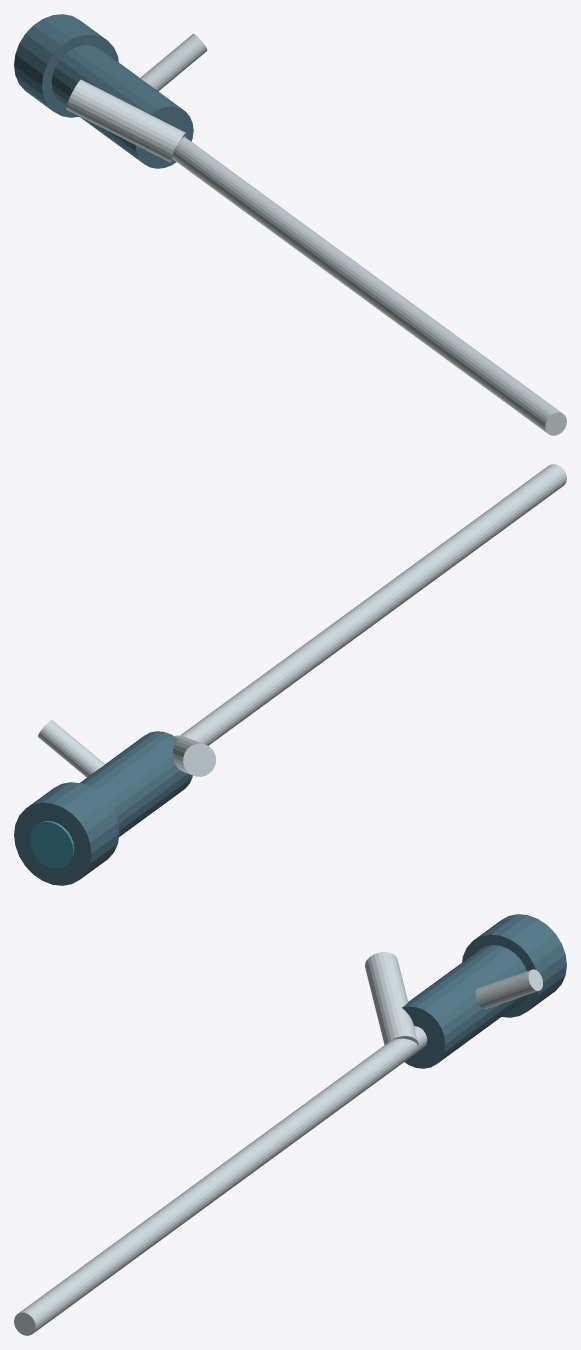
The model's file is nephroscope.glb.
3 renders of one model, top to bottom at view 1: azimuth 30°, elevation 25°; view 2: azimuth 150°, elevation 25°; view 3: azimuth 330°, elevation 25°, orthographic.
Visible parts, largest first — view 1: optical working sheath, handle body, eyepiece, working channel, light connector; view 2: optical working sheath, eyepiece, handle body, lens, light connector, working channel; view 3: optical working sheath, handle body, eyepiece, working channel, light connector.
Part boxes in pixels (bbox=[...]): optical working sheath: bbox=[172, 136, 566, 435]; handle body: bbox=[51, 45, 193, 168]; eyepiece: bbox=[14, 14, 118, 117]; working channel: bbox=[66, 79, 186, 162]; light connector: bbox=[140, 33, 207, 91]; optical working sheath: bbox=[180, 464, 566, 745]; eyepiece: bbox=[14, 782, 119, 885]; handle body: bbox=[80, 731, 192, 836]; lens: bbox=[29, 821, 74, 868]; light connector: bbox=[38, 720, 104, 777]; working channel: bbox=[172, 735, 215, 776]; optical working sheath: bbox=[14, 1026, 427, 1335]; handle body: bbox=[402, 945, 526, 1068]; eyepiece: bbox=[462, 914, 566, 1017]; working channel: bbox=[365, 952, 418, 1046]; light connector: bbox=[475, 969, 542, 1009].
Size of the model in its own units: 0.0647 by 0.0375 by 0.361.
